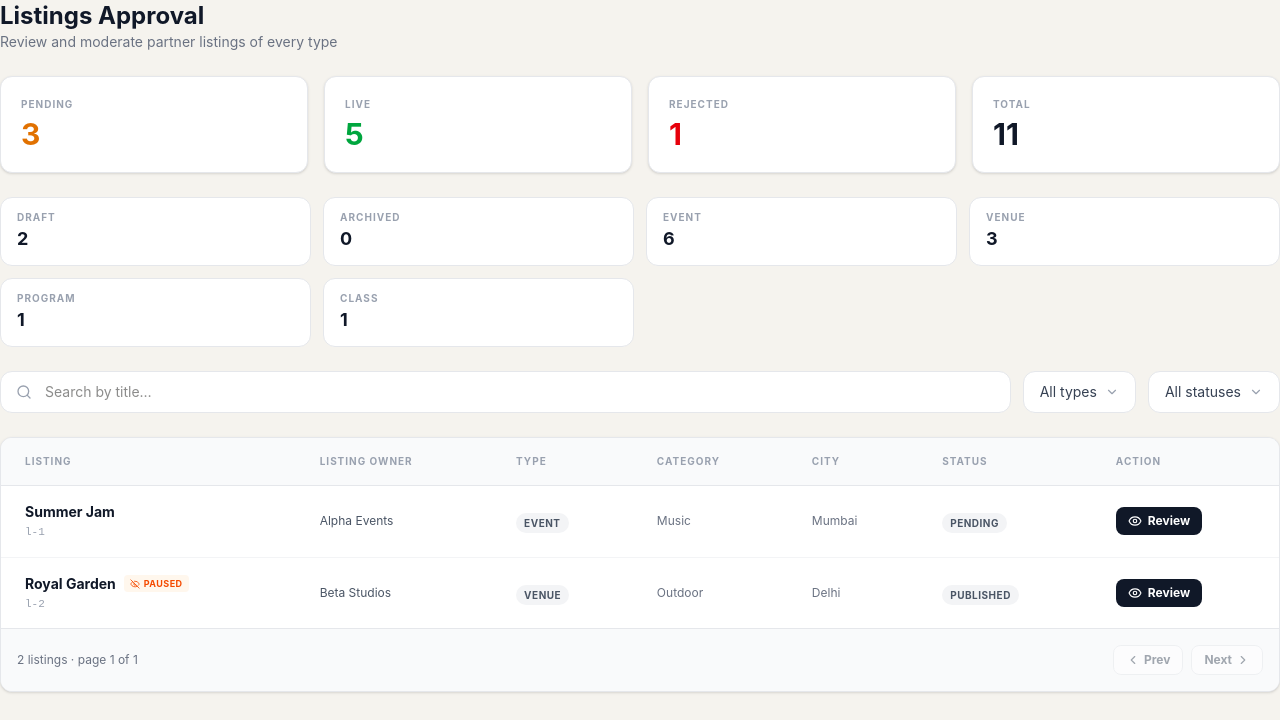
Listings Approval › opens a lightbox when a media image is clicked
This screenshot has width=1280, height=720.
What coordinates should you click on to do the following:
click the text "Summer Jam"
I would click on:
 (70, 512)
Its box is [25, 502, 115, 522].
(page scrolled)
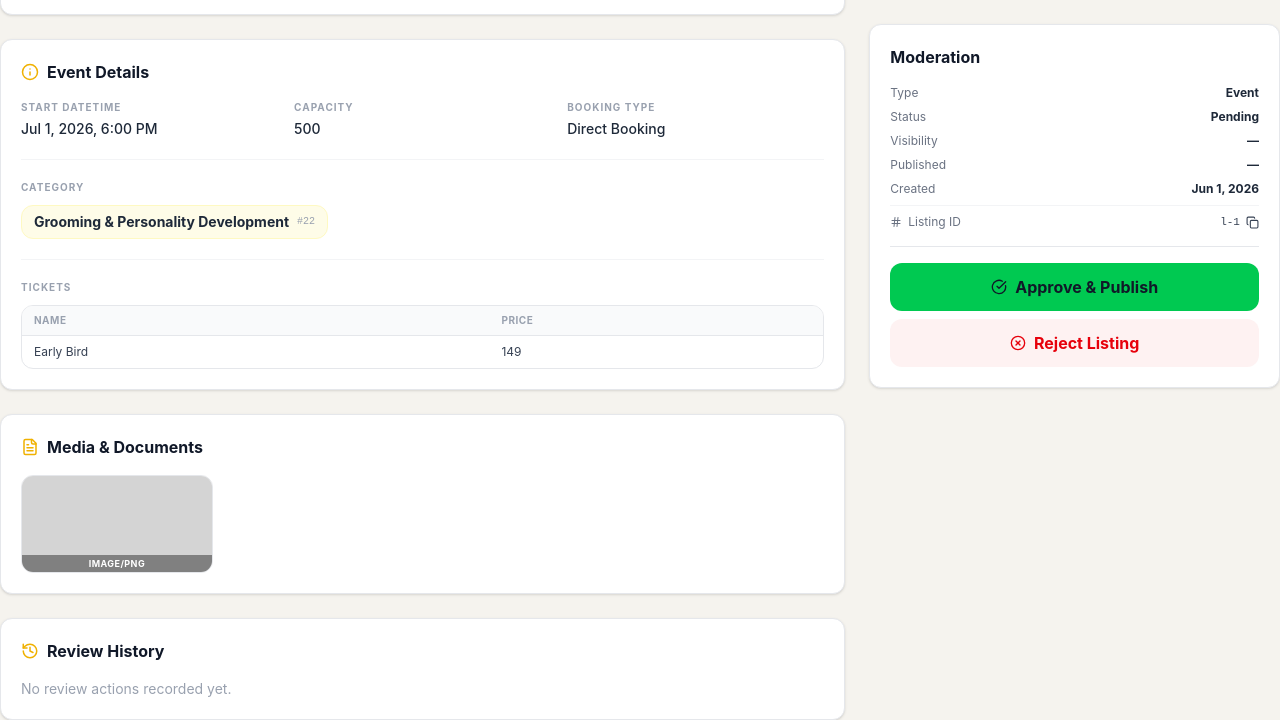
What coordinates should you click on to do the following:
click the button with aria-label "Preview image"
I would click on:
 (117, 524)
Its box is [21, 475, 213, 573].
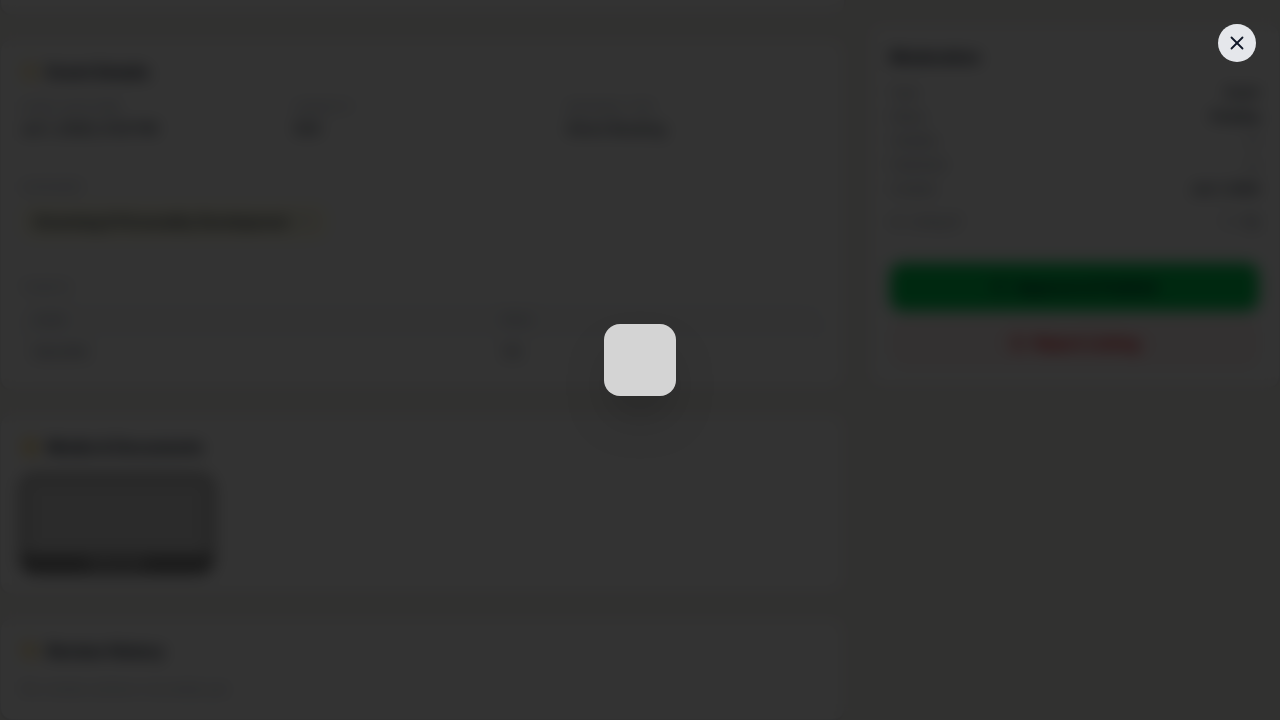
Result: the button named "Close preview" is shown at [1218, 24, 1256, 62]
